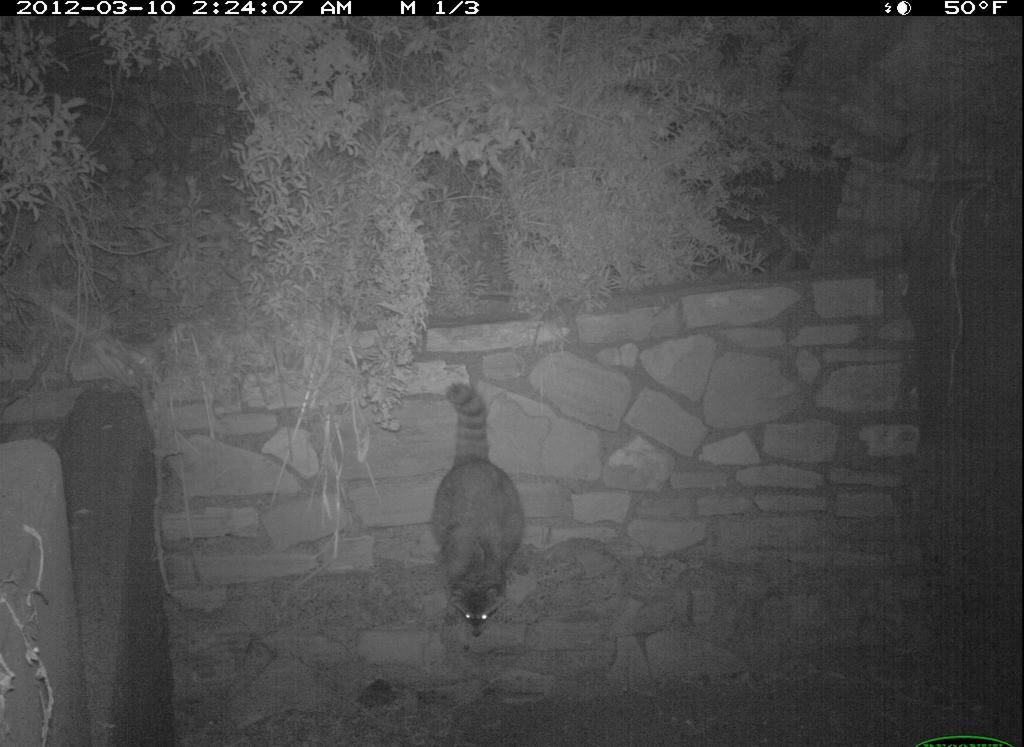raccoon: (434, 374, 534, 641)
